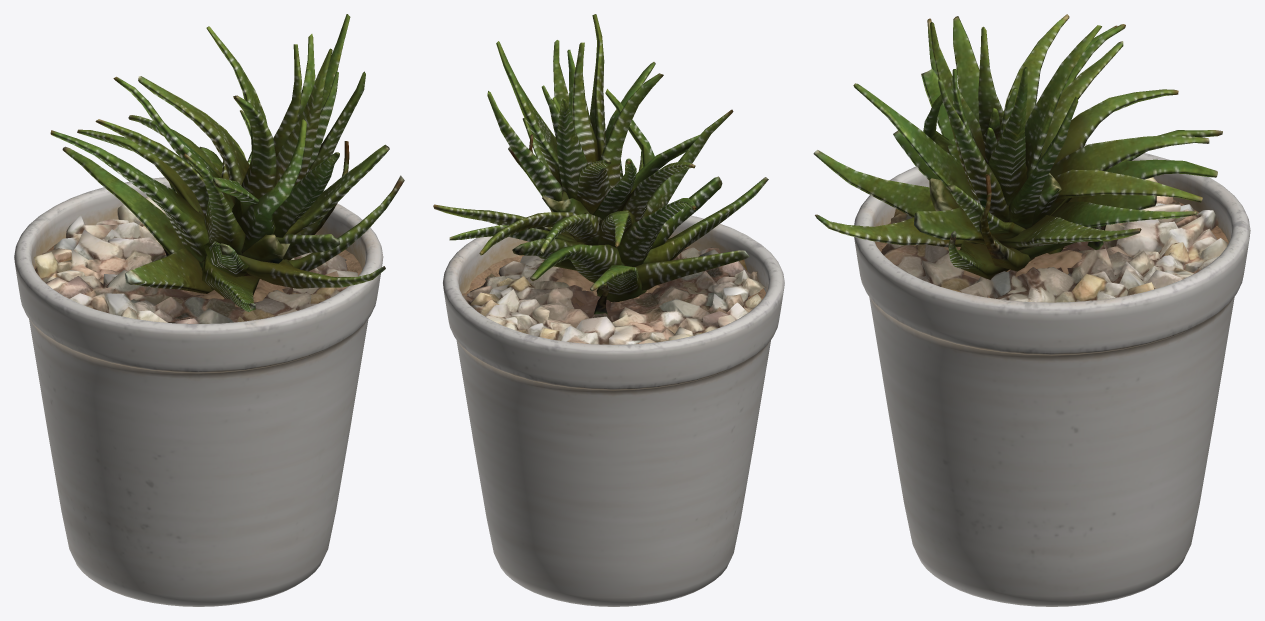
Rendered from potted_plant_2.fbx.
3 views of the same model, side by side, from view 1: azimuth 30°, elevation 25°; view 2: azimuth 150°, elevation 25°; view 3: azimuth 270°, elevation 25° (orthographic). The views are drawn at different scales.
Visible parts, largest first — view 1: pot, plant, ground, dirt; view 2: pot, plant, ground, dirt; view 3: pot, plant, ground, dirt.
Boxes of the visible parts, left/top/right/bottom form: pot: left=14, top=177, right=383, bottom=606; plant: left=50, top=14, right=404, bottom=311; ground: left=34, top=196, right=357, bottom=323; dirt: left=34, top=238, right=362, bottom=307; pot: left=443, top=215, right=784, bottom=606; plant: left=433, top=14, right=768, bottom=314; ground: left=463, top=247, right=765, bottom=344; dirt: left=462, top=247, right=765, bottom=306; pot: left=854, top=144, right=1250, bottom=606; plant: left=813, top=14, right=1222, bottom=279; ground: left=881, top=177, right=1227, bottom=302; dirt: left=875, top=200, right=1228, bottom=297.
Bounding box in the file's own units: 16.79 × 26.75 × 18.48.
